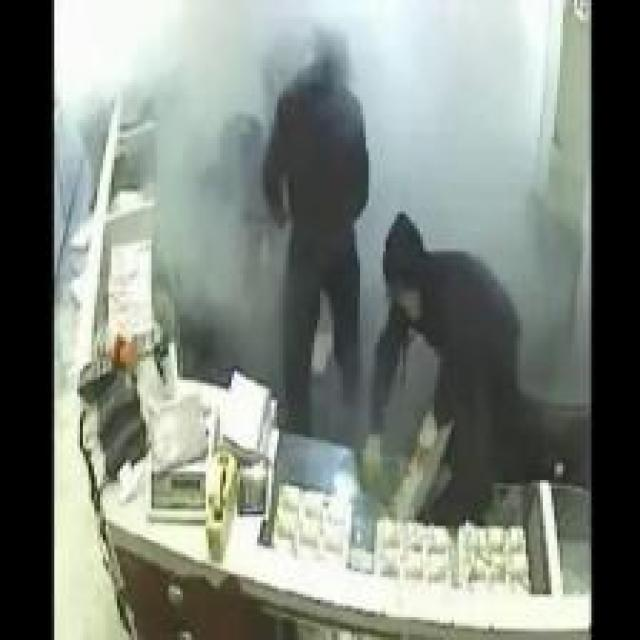fire: (353, 0, 588, 234), (160, 108, 294, 380)
